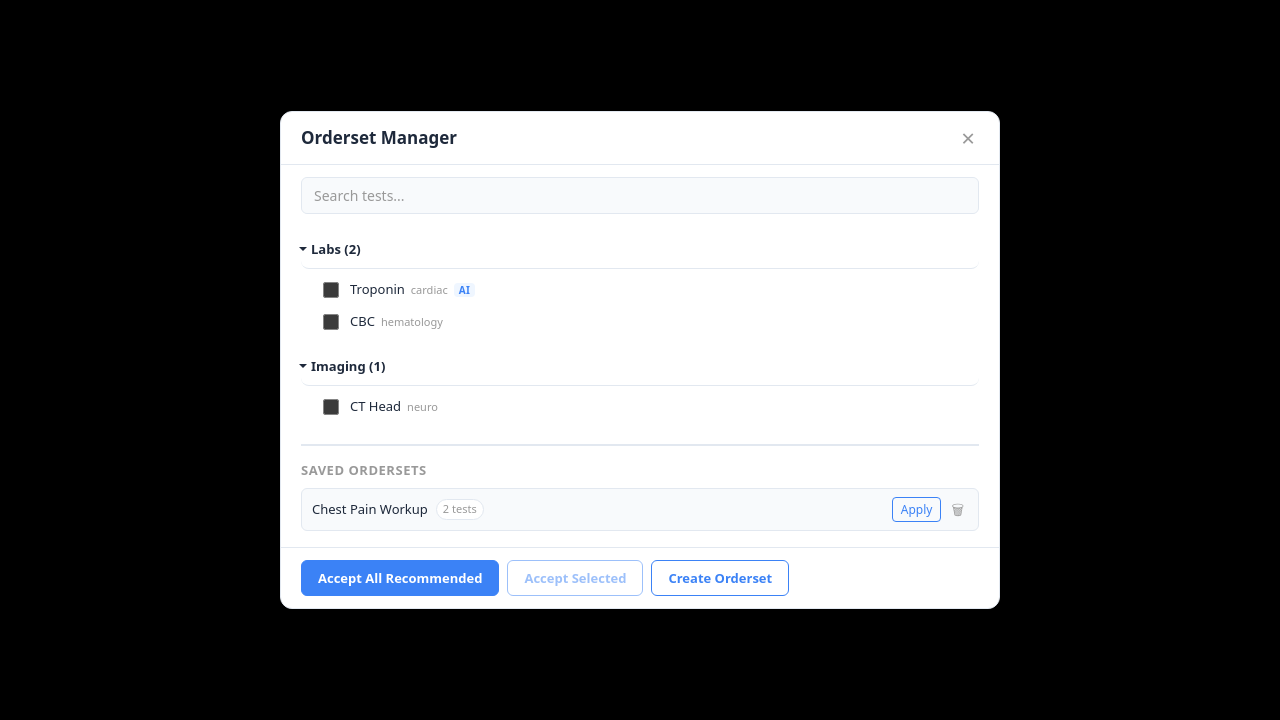
Test case: OrdersetManager › [Fix 1] shows inline delete confirmation on trash click
The image size is (1280, 720).
# Click the trash button
Step 1. Click the button named "Delete Chest Pain Workup" → click(958, 510), box [947,501,968,519]
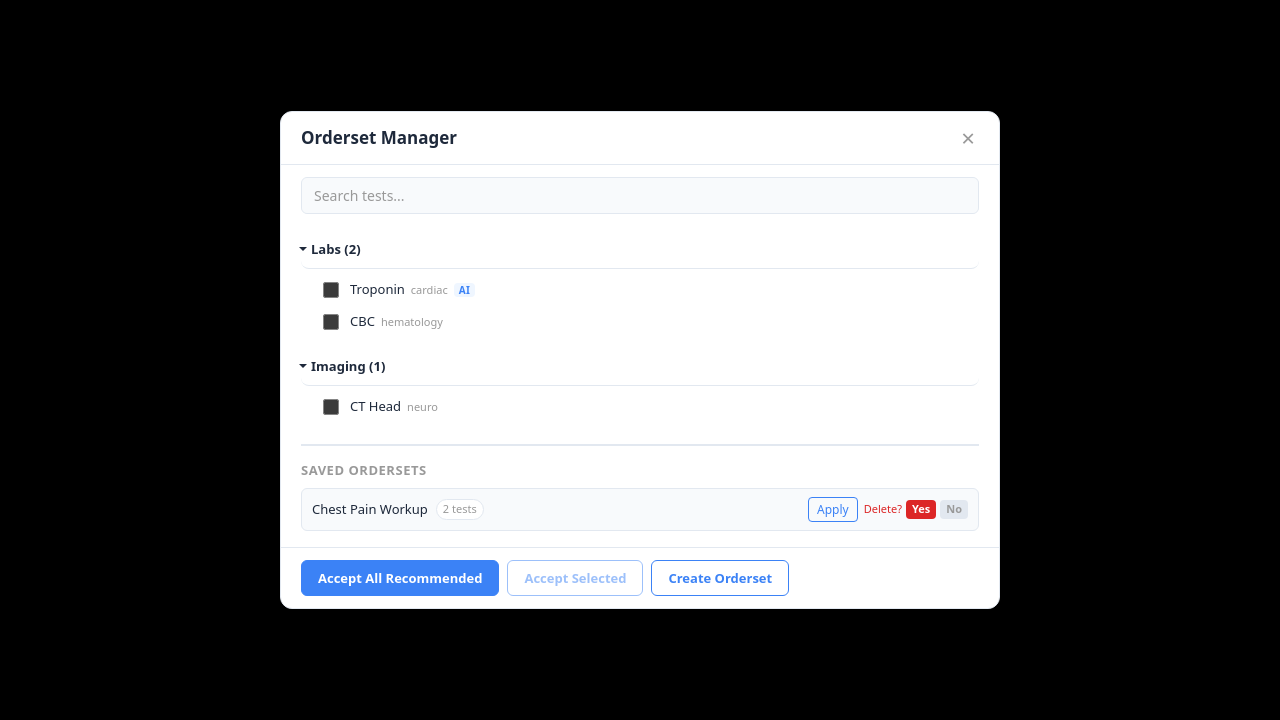
Expected: the text "Delete?" is shown, [864,501,902,518]
Expected: the button "Yes" is shown, [906,500,936,519]
Expected: the button "No" is shown, [940,500,968,519]
